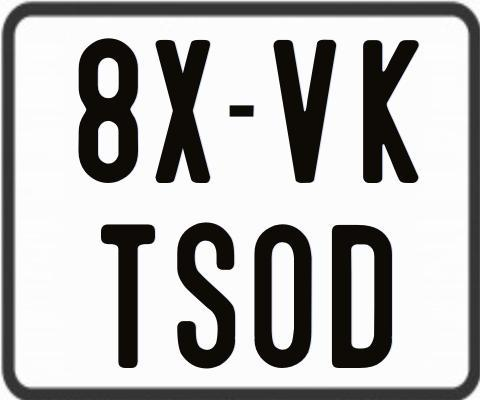0: (253, 223, 312, 368)
8: (77, 36, 142, 183)
D: (331, 225, 395, 368)
K: (362, 40, 418, 183)
S: (174, 221, 234, 369)
T: (101, 222, 159, 371)
V: (273, 40, 341, 185)
X: (155, 38, 213, 183)
